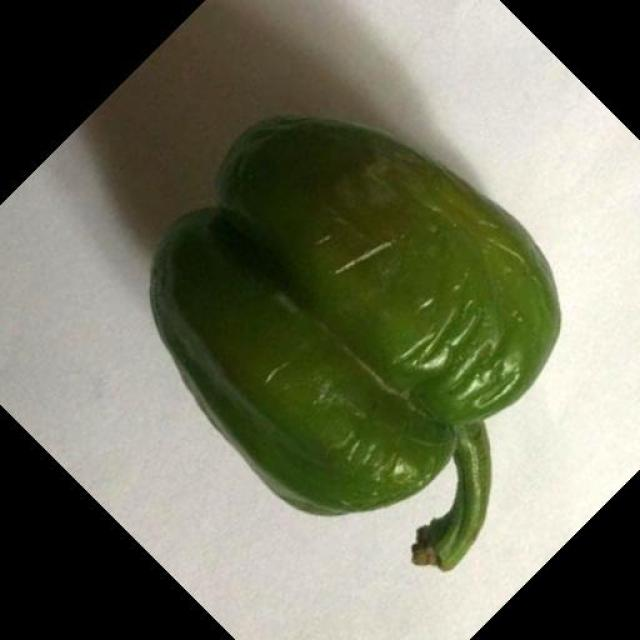Stale_Capsicum: (150, 88, 534, 557)
